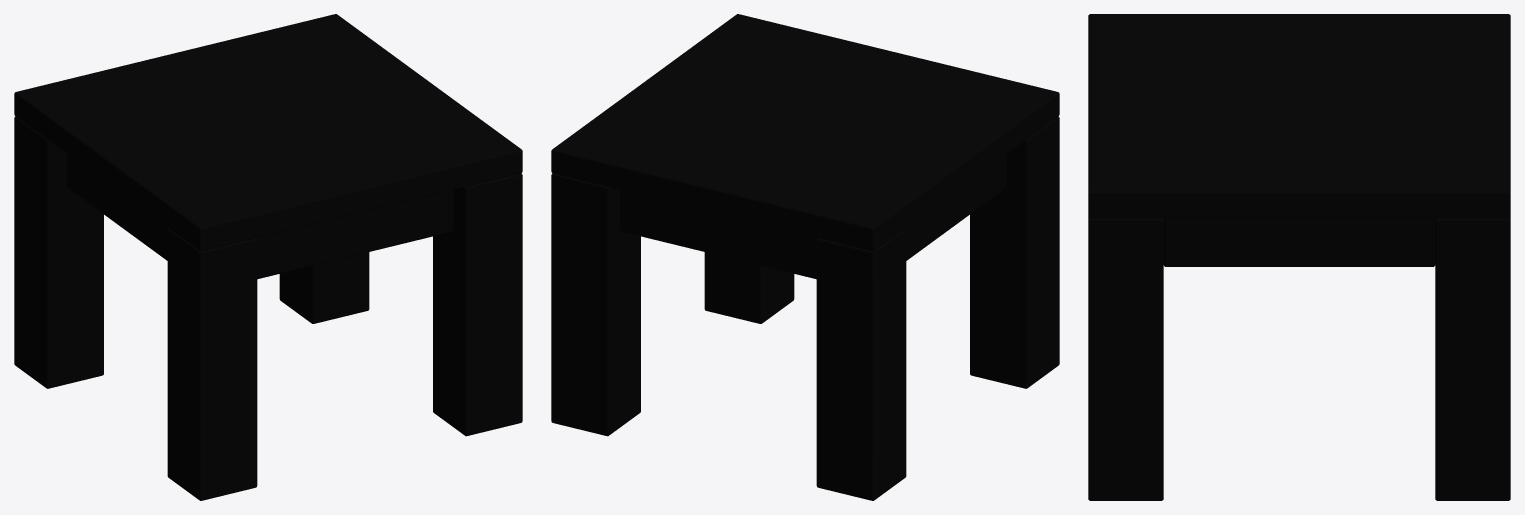
Rendered from green-room-interactive.glb.
3 views of the same model, side by side, from view 1: azimuth 30°, elevation 25°; view 2: azimuth 150°, elevation 25°; view 3: azimuth 270°, elevation 25° (orthographic). The views are drawn at different scales.
Parts seen in each view (by area): view 1: GreenCoffeeTable_Mesh; view 2: GreenCoffeeTable_Mesh; view 3: GreenCoffeeTable_Mesh.
Boxes of the visible parts, x1,y1,x2,y2 form: GreenCoffeeTable_Mesh: (14, 14, 522, 500); GreenCoffeeTable_Mesh: (551, 14, 1059, 500); GreenCoffeeTable_Mesh: (1088, 14, 1510, 500).
Size of the model in its own units: 1.07 by 0.8636 by 1.07.
Materials: 1 (1 with a texture image).
